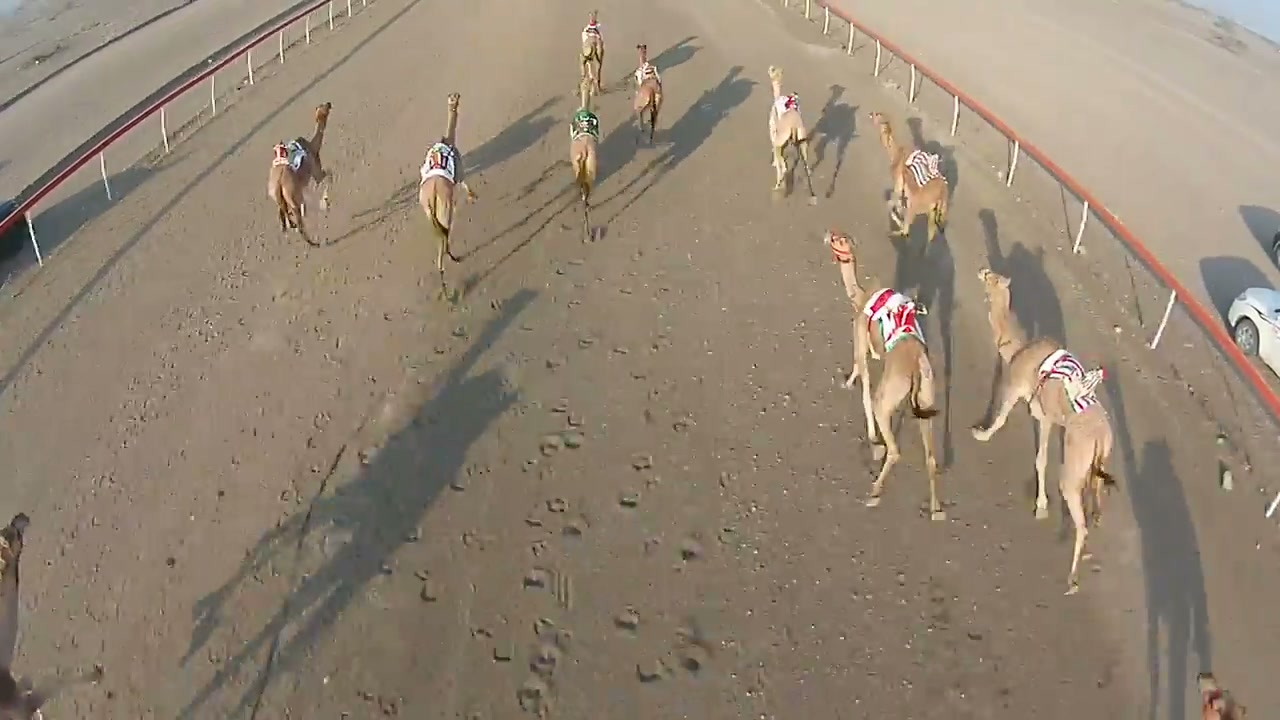animal_footprint: (362, 302, 504, 719), (502, 275, 622, 718), (600, 335, 731, 691), (220, 326, 353, 651)
